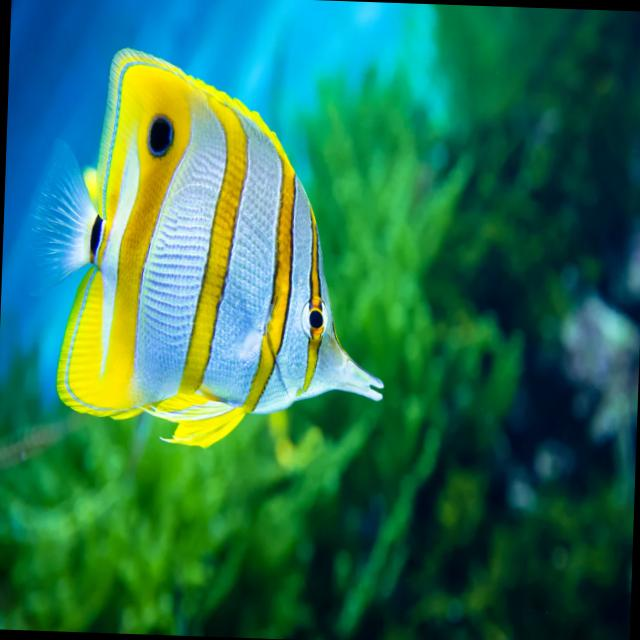ButterflyFish: (24, 43, 399, 454)
